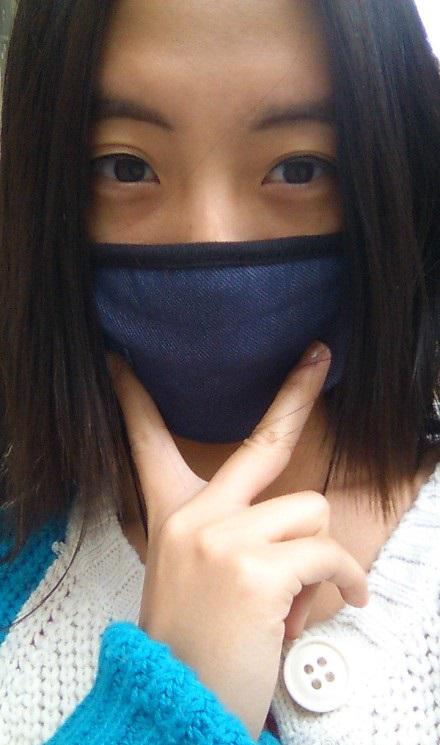OK: (67, 77, 378, 439)
